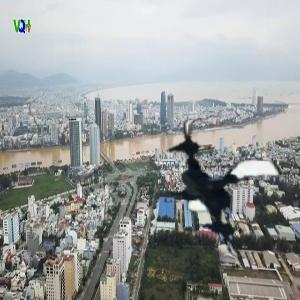drone: (148, 116, 291, 259)
